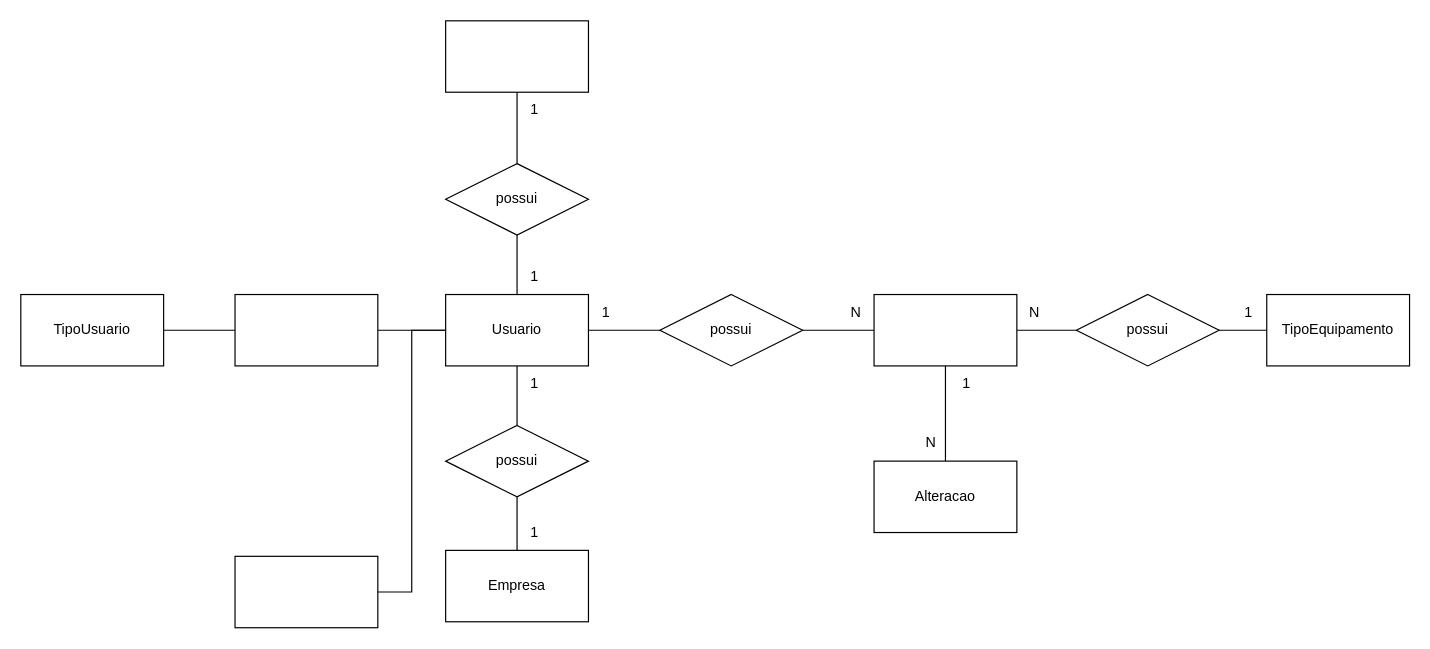
Some shapes in this 1430 by 649 pixel diagram are drawn without their labels. The shapes that lost their labels are listed below. From the top down, each one's centre as x and y in pixels, then its label:
point (516, 56): Funcionario
point (306, 329): Interno
point (945, 329): Equipamentos
point (306, 591): ImagemUsuario
